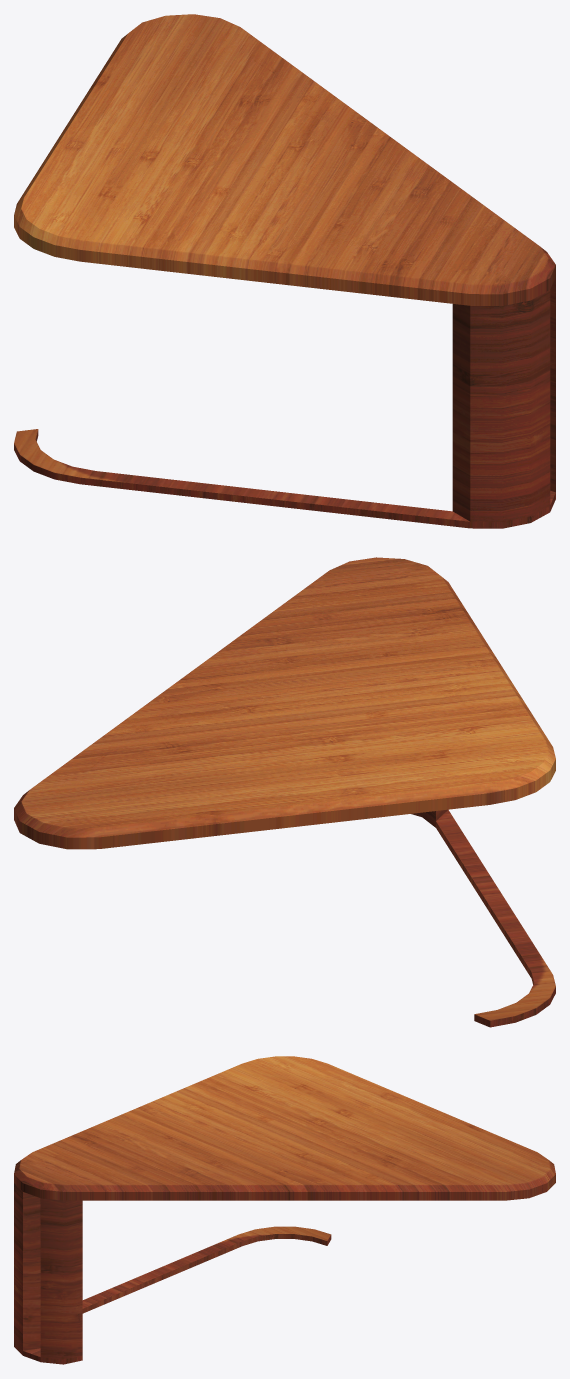
Rendered from StandingDesk.obj.
3 views of the same model, one above another, from view 1: azimuth 30°, elevation 25°; view 2: azimuth 150°, elevation 25°; view 3: azimuth 270°, elevation 25° (orthographic). The views are drawn at different scales.
Visible parts, largest first — view 1: TurtleDefaultBakeLayer Desk_Standing; view 2: TurtleDefaultBakeLayer Desk_Standing; view 3: TurtleDefaultBakeLayer Desk_Standing.
Part boxes in pixels (bbox=[...]): TurtleDefaultBakeLayer Desk_Standing: bbox=[14, 14, 555, 528]; TurtleDefaultBakeLayer Desk_Standing: bbox=[14, 557, 555, 1027]; TurtleDefaultBakeLayer Desk_Standing: bbox=[14, 1056, 555, 1364].
Size of the model in its own units: 149 by 92.55 by 256.
1 material, 1 textured.
